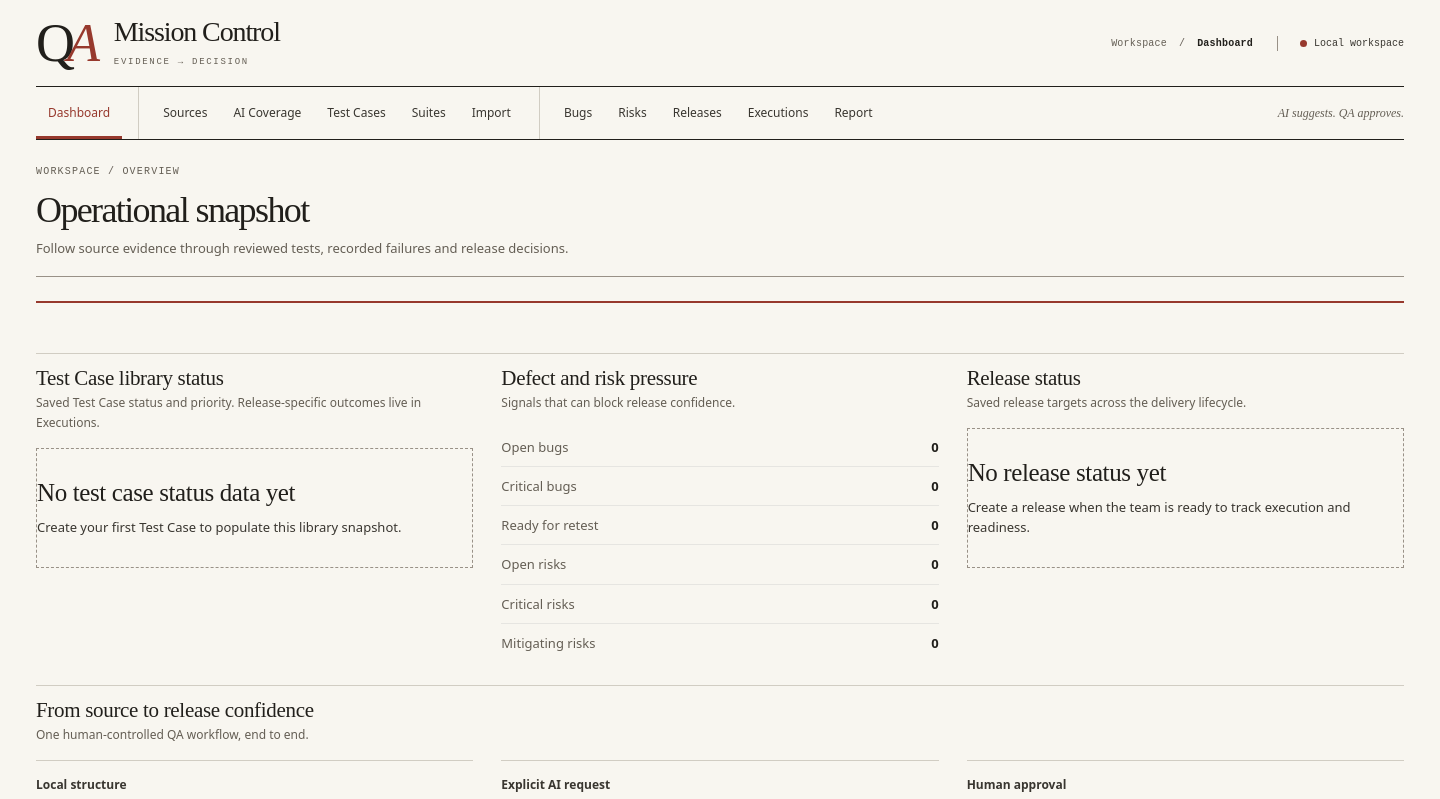
Test: App storage handling › opens the AI Coverage Workspace page from navigation
Click the button with aria-label "AI Coverage Workspace" at (267, 113), box [221, 87, 313, 139]
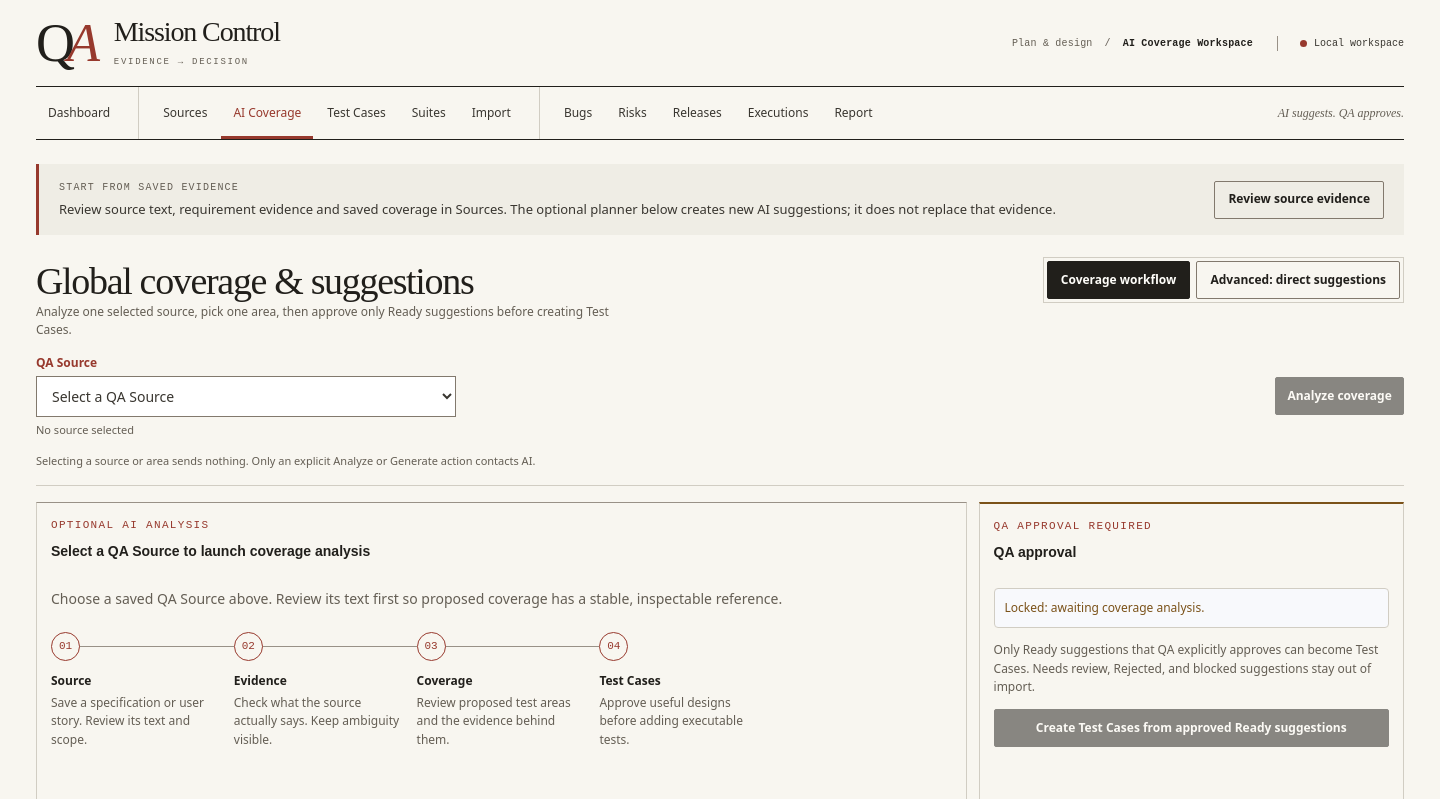
expect the text "AI suggests. QA approves." is shown: met, box [1278, 106, 1404, 120]
expect the heading "Select a QA Source to launch coverage analysis" is shown: met, box [51, 543, 370, 559]
Select "Saved Checkout LLD" in the dropdown labelled "QA Source" at (246, 397), box [36, 376, 456, 417]
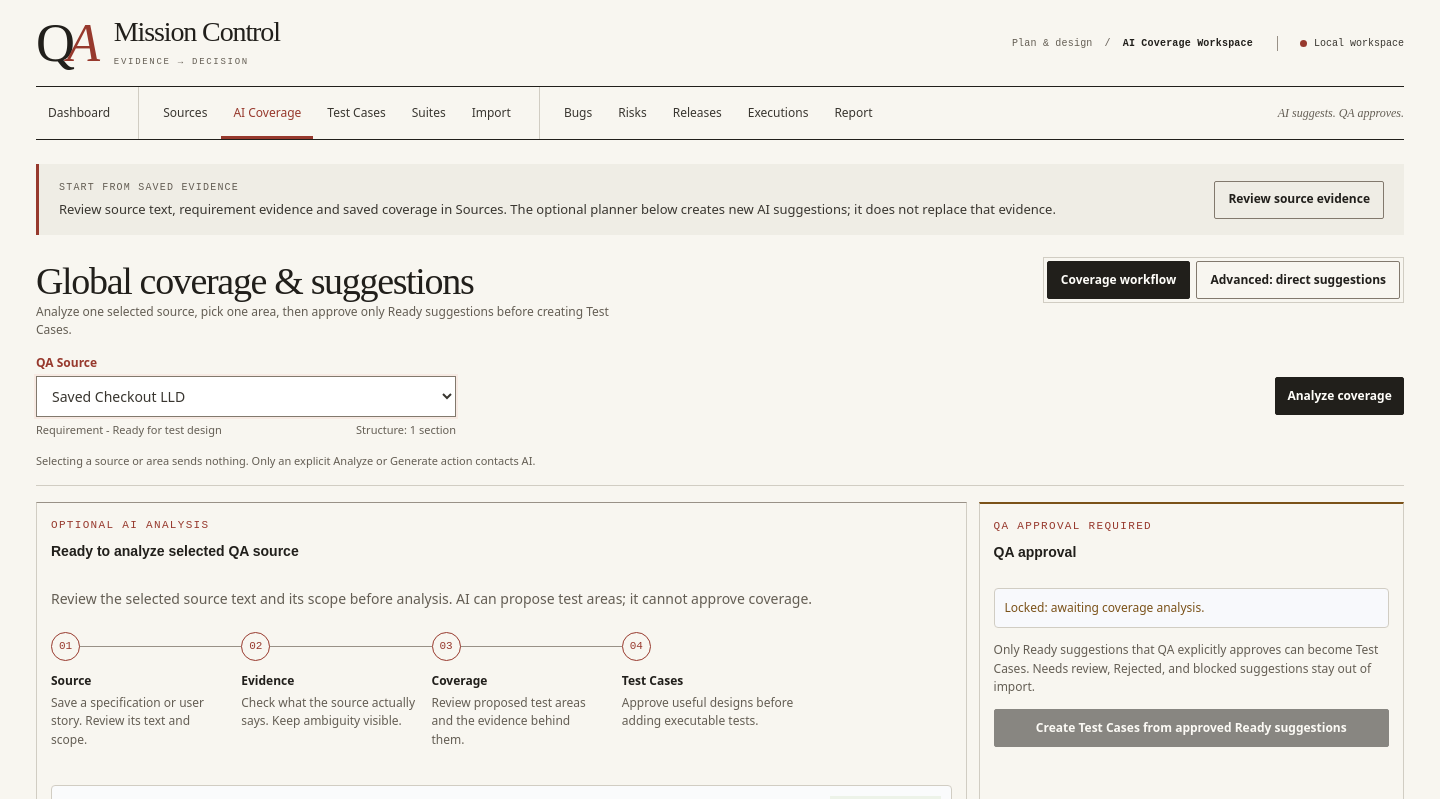
expect the button "Analyze coverage" is enabled: met, box [1275, 377, 1404, 415]
